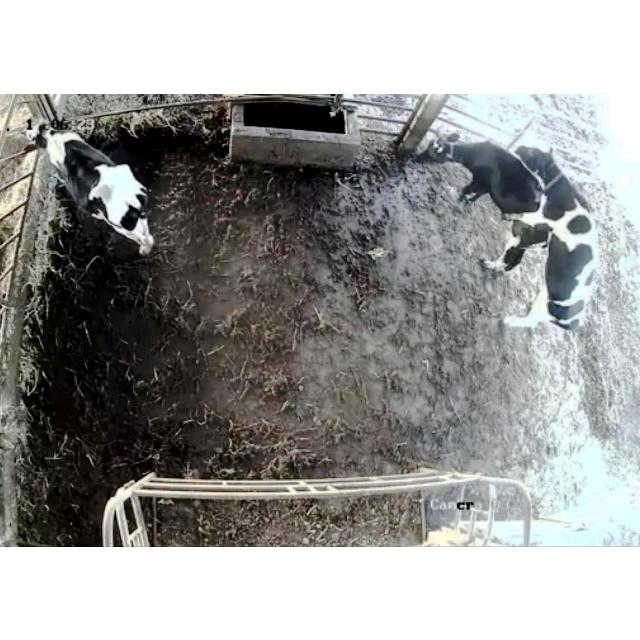ride: (489, 139, 607, 337)
